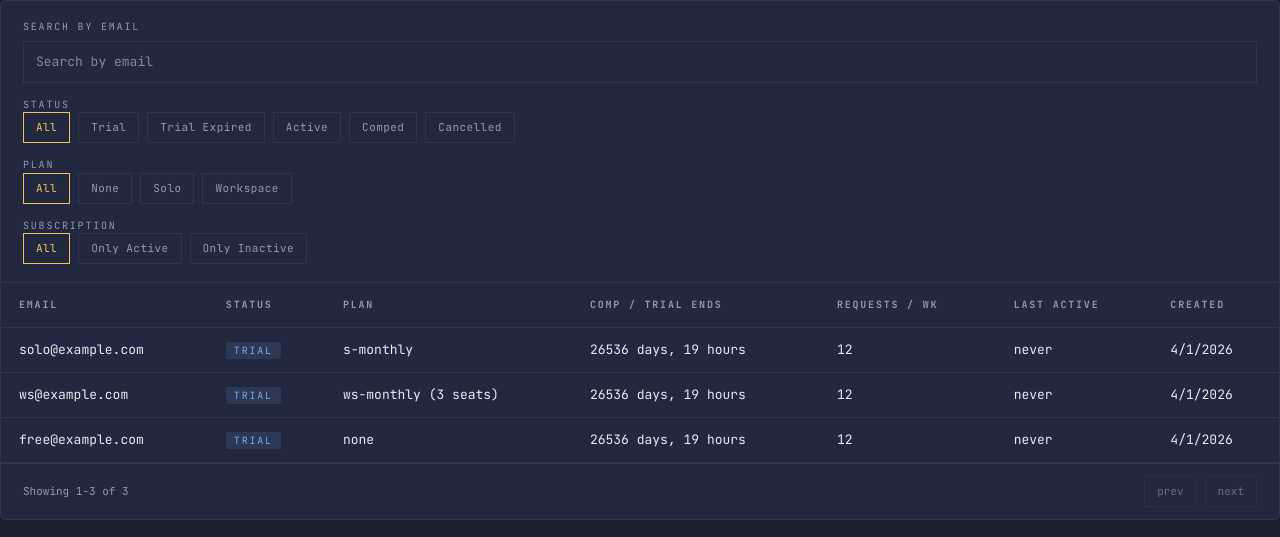
Admin Users list view › applies the plan and subscription filter chips client-side
The image size is (1280, 537).
Click the radio button with aria-label "plan: workspace": click(247, 188) [202,173,292,204]
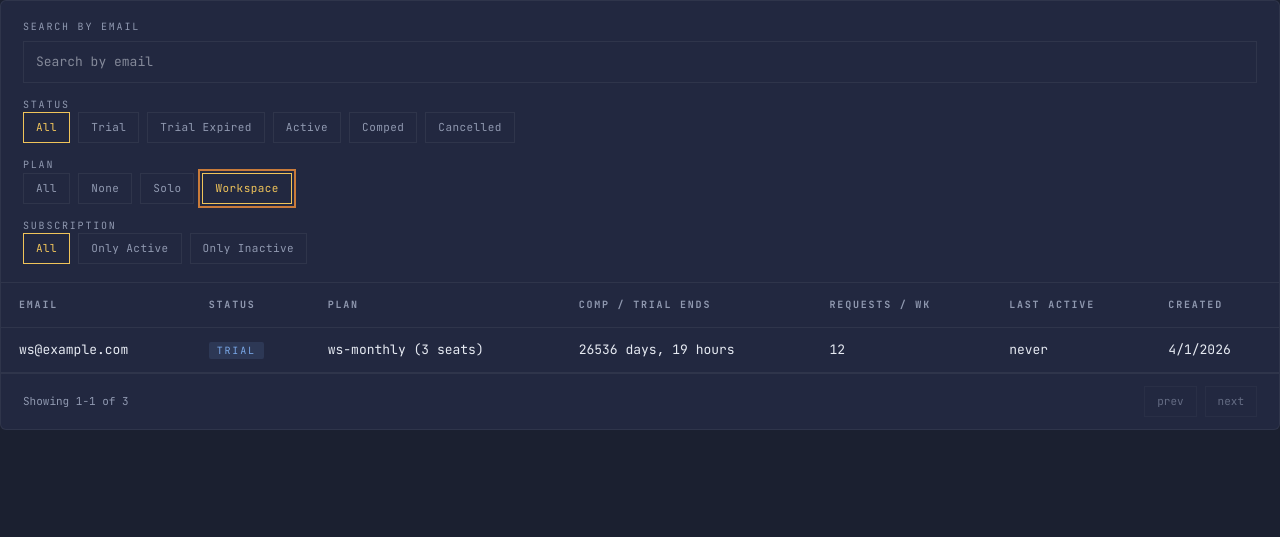
Check: the text "ws@example.com" is shown, box [19,340,128,360]
Check: the button "solo@example.com" is gone
Check: the button "free@example.com" is gone
# Reset the plan filter, then apply only-active subscription.
Click the radio button with aria-label "plan: all": click(47, 188) [23,173,70,204]
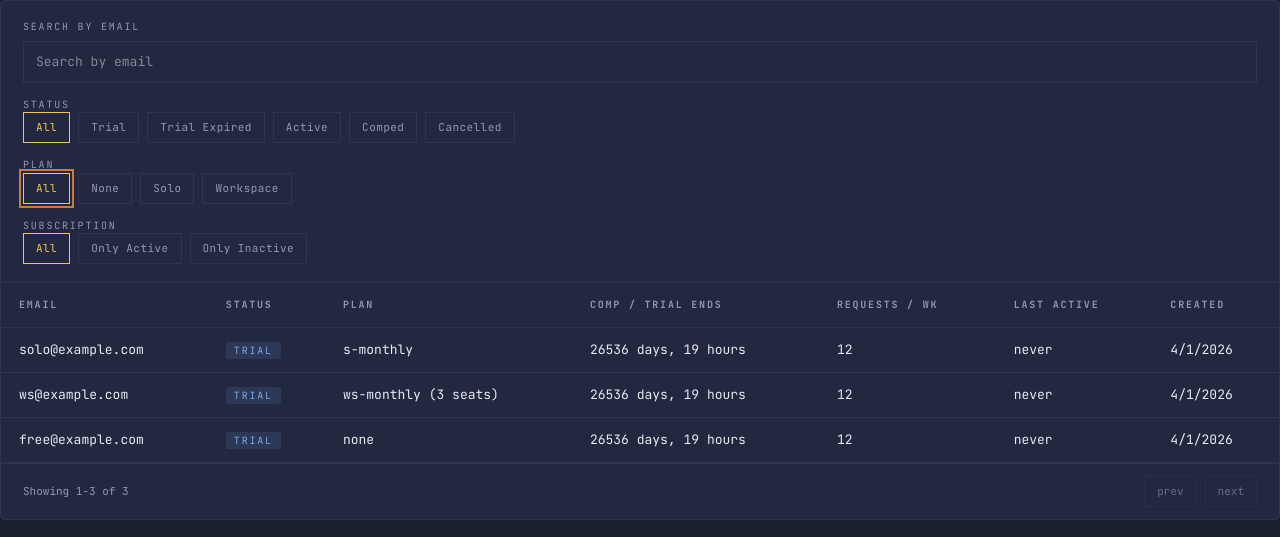
Click the radio button with aria-label "subscription: only active": click(130, 249) [78,233,182,264]
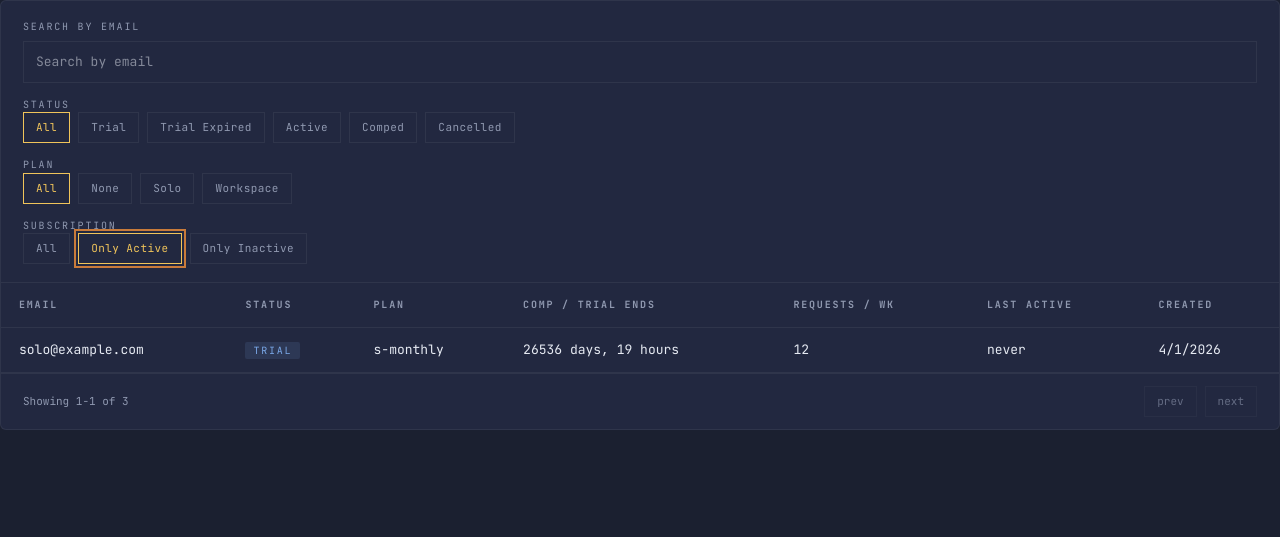
Check: the text "solo@example.com" is shown, box [19,340,144,360]
Check: the button "ws@example.com" is gone
Check: the button "free@example.com" is gone
